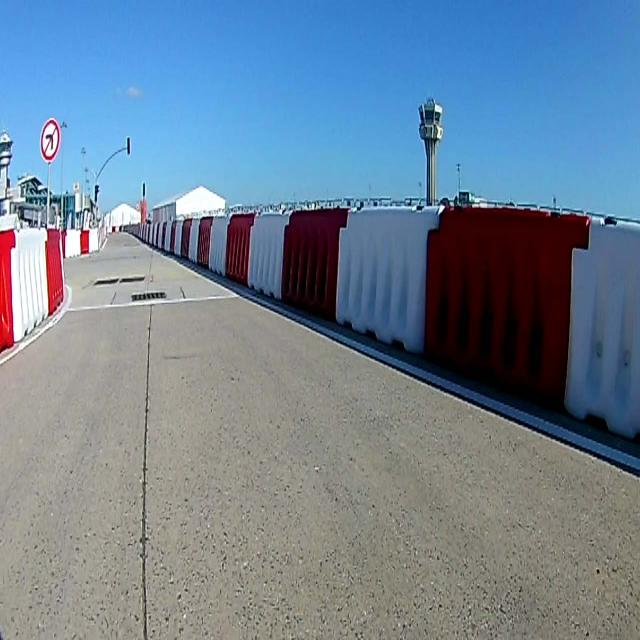soladonulmez: (39, 117, 62, 163)
